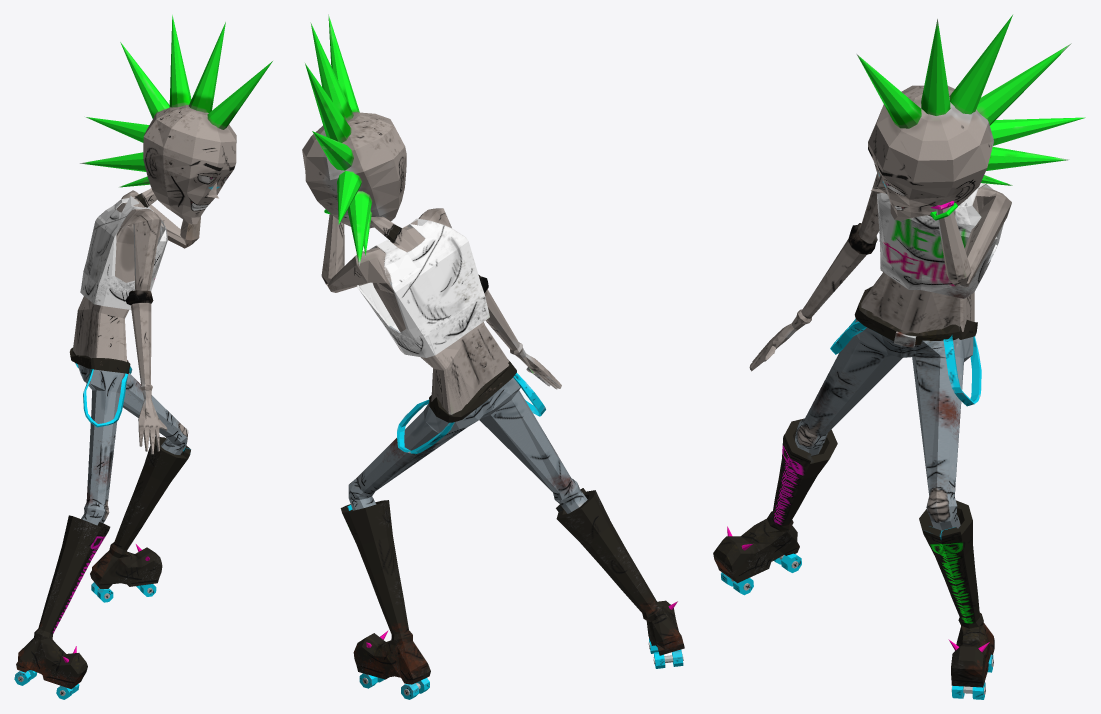
The model's file is punkAnimation_000033.obj.
3 renders of one model, left to right at view 1: azimuth 30°, elevation 25°; view 2: azimuth 150°, elevation 25°; view 3: azimuth 270°, elevation 25°, orthographic. The views are drawn at different scales.
Visible parts, largest first — view 1: Cube.004_Cube.003; view 2: Cube.004_Cube.003; view 3: Cube.004_Cube.003.
Part boxes in pixels (x1,y1,x2,y2): Cube.004_Cube.003: [14, 15, 272, 699]; Cube.004_Cube.003: [302, 14, 684, 699]; Cube.004_Cube.003: [713, 15, 1085, 699].
Size of the model in its own units: 3.58 by 6.71 by 3.14.
